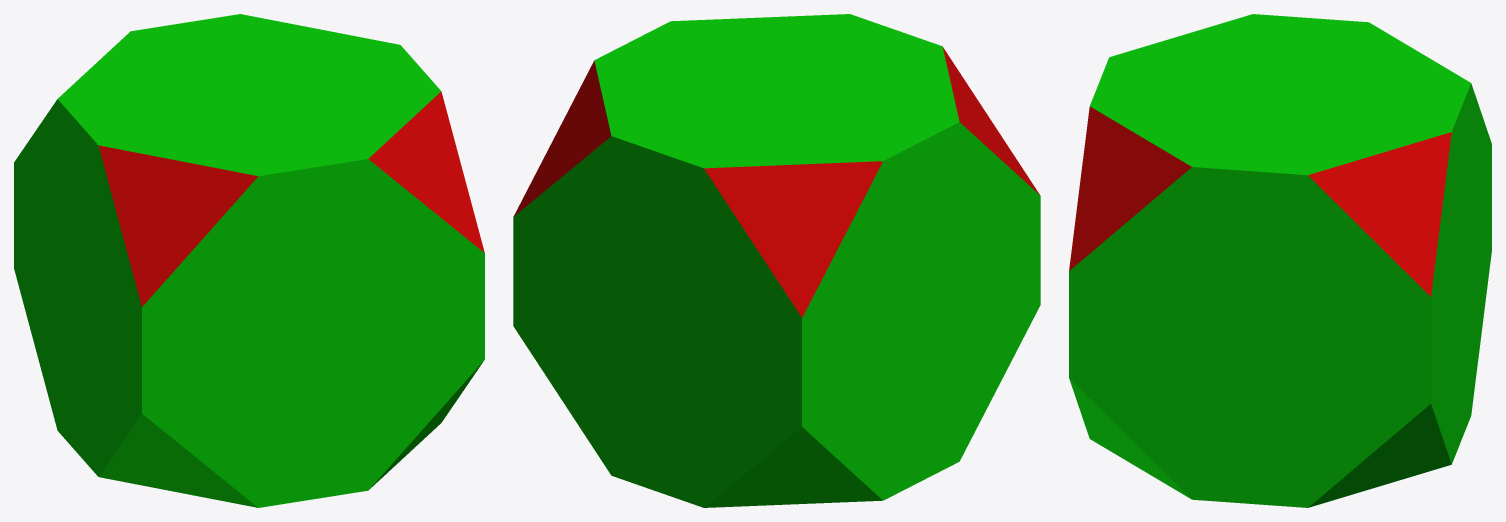
File: anim_cube_000046.obj
The picture shows the model from 3 angles, left to right: view 1: azimuth 30°, elevation 25°; view 2: azimuth 150°, elevation 25°; view 3: azimuth 270°, elevation 25°; orthographic projection. The views are drawn at different scales.
Visible parts, largest first — view 1: Cube_Cube.002_Material.002, Cube_Cube.002_Material.001; view 2: Cube_Cube.002_Material.002, Cube_Cube.002_Material.001; view 3: Cube_Cube.002_Material.002, Cube_Cube.002_Material.001.
Part boxes in pixels (bbox=[...]): Cube_Cube.002_Material.002: bbox=[14, 14, 484, 507]; Cube_Cube.002_Material.001: bbox=[98, 91, 484, 306]; Cube_Cube.002_Material.002: bbox=[513, 14, 1040, 507]; Cube_Cube.002_Material.001: bbox=[513, 47, 1039, 317]; Cube_Cube.002_Material.002: bbox=[1069, 14, 1491, 507]; Cube_Cube.002_Material.001: bbox=[1069, 106, 1451, 296].
Bounding box in the file's own units: 3.57 × 3.09 × 3.57.
